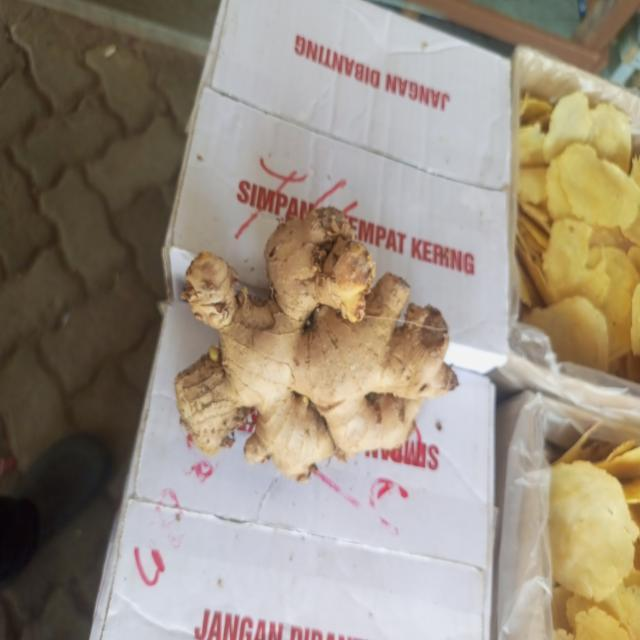ginger: (180, 206, 450, 472)
